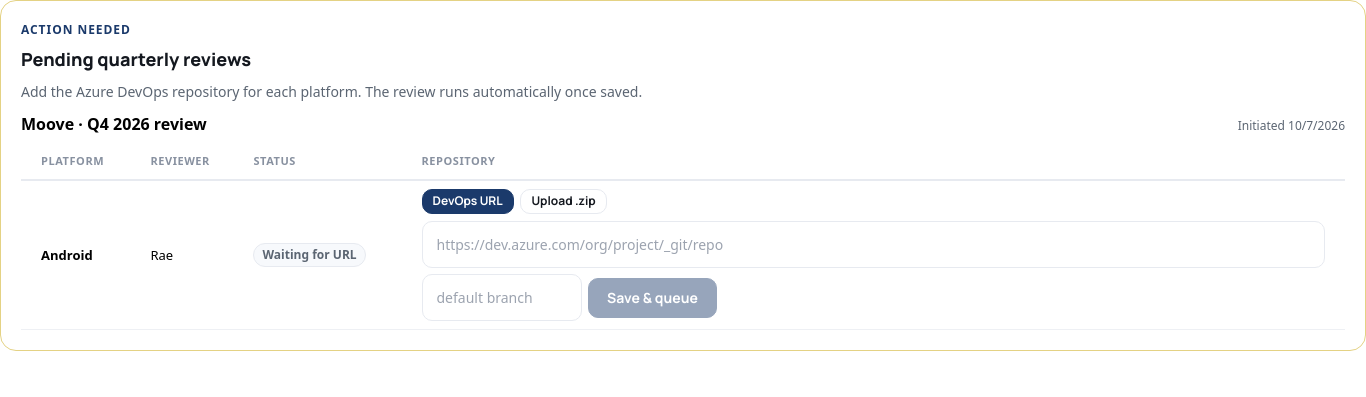
shows the API error when saving fails
Step 1. Type "https://github.com/x" into the field named "DevOps URL for Android" → [873, 244], box [422,221,1325,268]
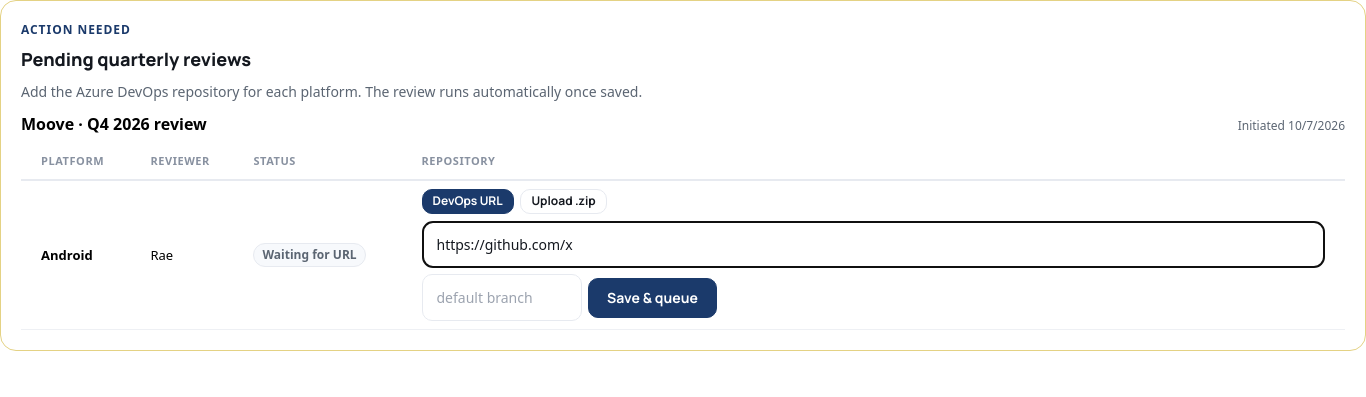
Step 2. Click the button "Save & queue" → [652, 298], box [588,278,716,318]
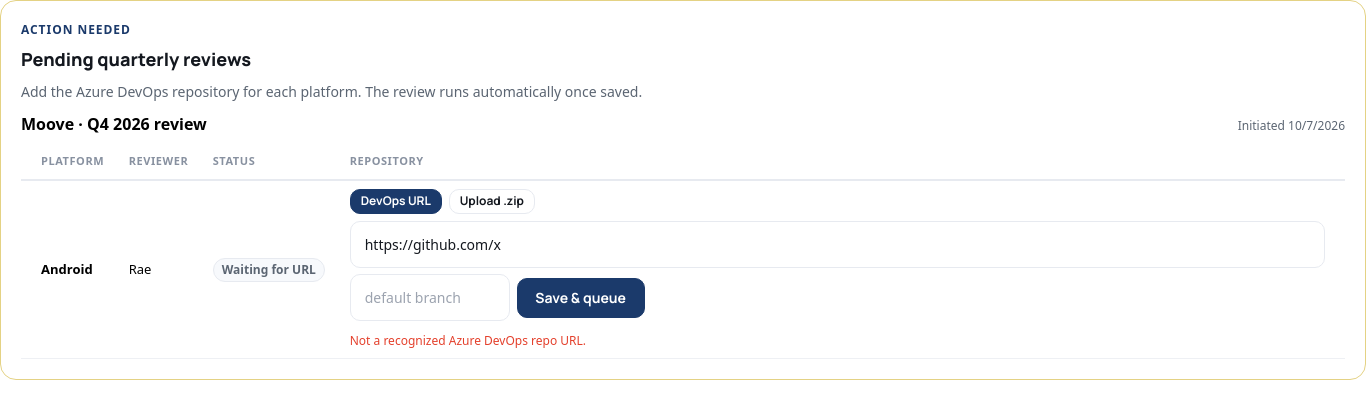
Now the text "Not a recognized Azure DevOps repo URL." is shown, box [350,332,586,349]
